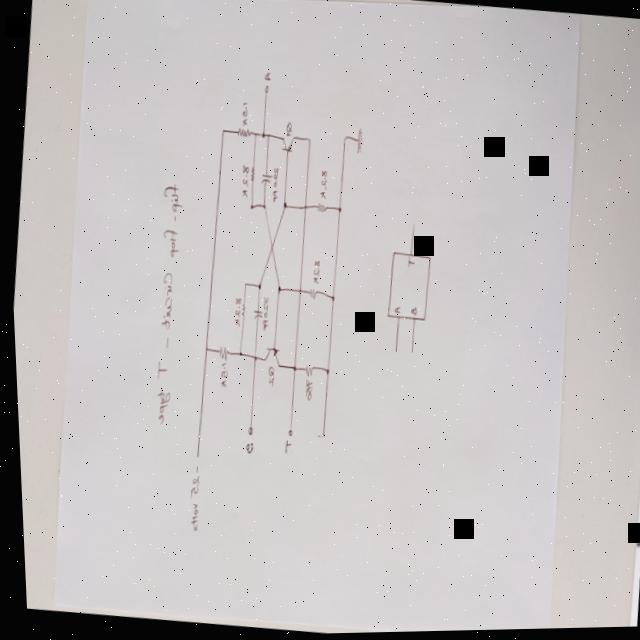capacitor: (256, 170, 272, 186), (247, 308, 260, 321)
crossover: (266, 242, 272, 252), (299, 203, 305, 211), (294, 287, 299, 295)
ground: (352, 126, 364, 158)
junction: (315, 429, 322, 441), (248, 351, 254, 363), (279, 200, 286, 210), (258, 130, 265, 139), (340, 134, 347, 142), (274, 284, 279, 294), (326, 294, 332, 302), (334, 205, 340, 213), (247, 202, 252, 211), (288, 365, 293, 373), (254, 282, 259, 290), (234, 349, 239, 357), (321, 368, 326, 376), (259, 202, 264, 210), (251, 130, 256, 138), (219, 126, 224, 134), (304, 136, 310, 142), (200, 345, 205, 352), (264, 131, 269, 138), (240, 281, 245, 286)
resistor: (213, 344, 227, 361), (235, 125, 250, 138), (313, 201, 326, 214), (304, 286, 316, 300), (300, 363, 311, 377), (246, 163, 254, 182), (236, 300, 244, 318)
terminal: (262, 82, 268, 94), (242, 425, 249, 435), (283, 428, 289, 437), (189, 451, 195, 459), (389, 349, 395, 355), (405, 350, 411, 356), (408, 221, 413, 227)
text: (136, 181, 190, 427), (179, 463, 200, 533), (236, 162, 249, 199), (256, 296, 268, 332), (268, 166, 279, 202), (315, 168, 327, 200), (214, 360, 226, 389), (308, 258, 320, 285), (229, 296, 239, 328), (262, 363, 273, 389), (299, 377, 310, 402), (239, 100, 249, 126), (282, 120, 291, 138), (240, 439, 250, 455), (403, 255, 413, 270), (279, 439, 288, 455), (389, 304, 399, 315), (262, 71, 271, 82), (406, 305, 414, 316)
transistor: (259, 344, 278, 368), (278, 133, 295, 153)
